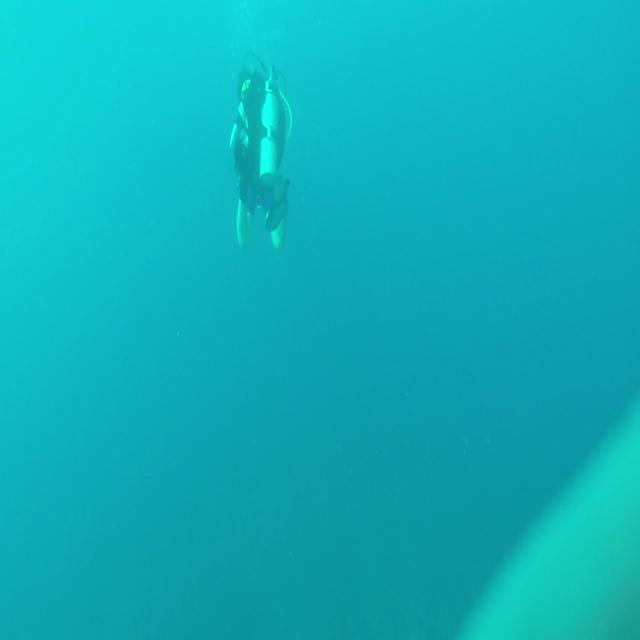human: (229, 49, 292, 251)
